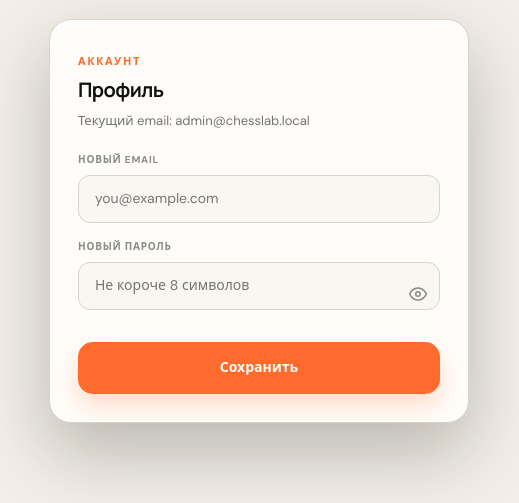
ProfileView › moves to the code step and shows the server notice after requesting an email change
Expected: the text "Текущий email: admin@chesslab.local" is shown, [78, 112, 310, 129]
Step 1. Type "new@chesslab.local" into the field labelled "Новый email" → (259, 199), box [78, 175, 440, 223]
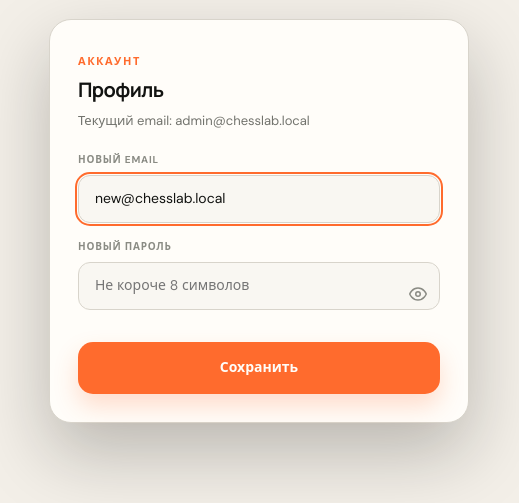
Step 2. Type "brand-new-pass" into the password field labelled "Новый пароль" → (259, 286), box [78, 262, 440, 310]
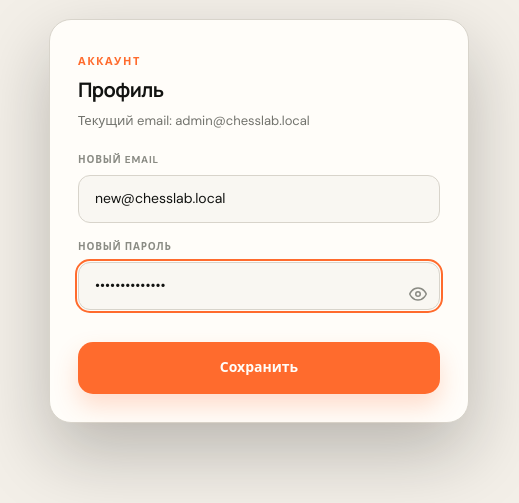
Step 3. Click the button "Сохранить" → (259, 368), box [78, 342, 440, 394]
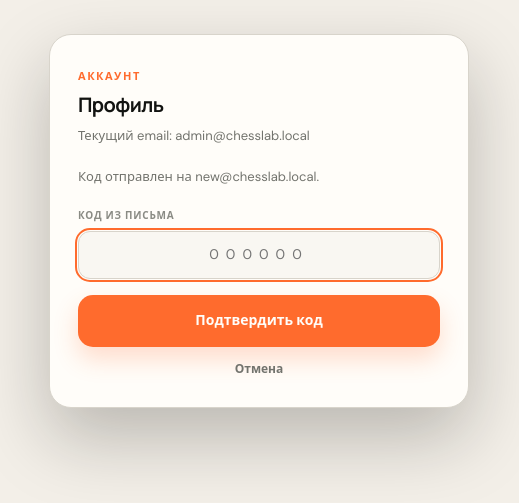
Expected: the text "Код отправлен на new@chesslab.local." is shown, [78, 168, 319, 185]
Expected: the field labelled "Код из письма" is shown, [78, 231, 440, 279]
